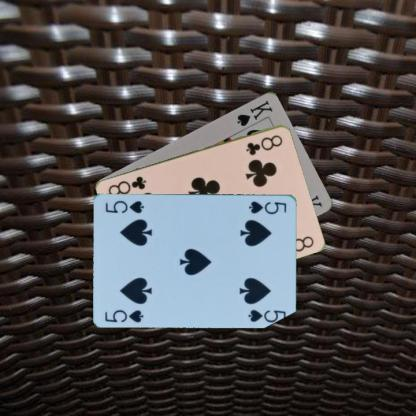5s: (102, 306, 145, 324), (246, 198, 288, 215)
8c: (244, 132, 284, 156)
Ks: (234, 97, 274, 128)
